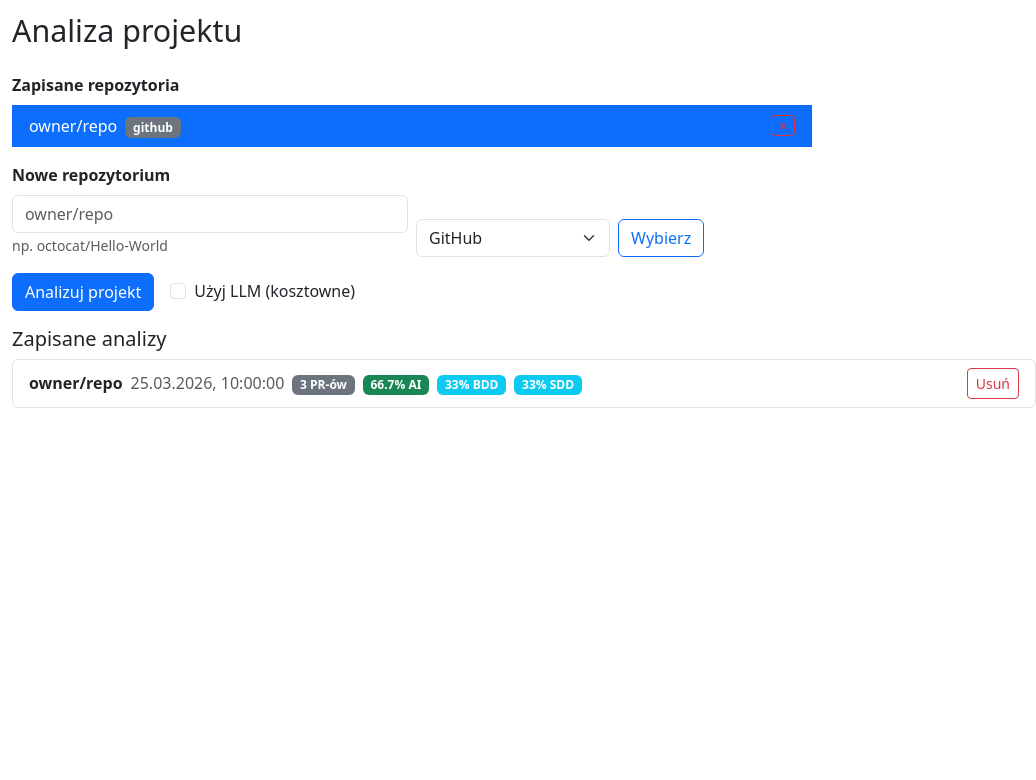
ProjectAnalysisPage › loads saved analysis on click
Click the button that starts with "owner/repo" at (305, 384), box [29,372,582,395]
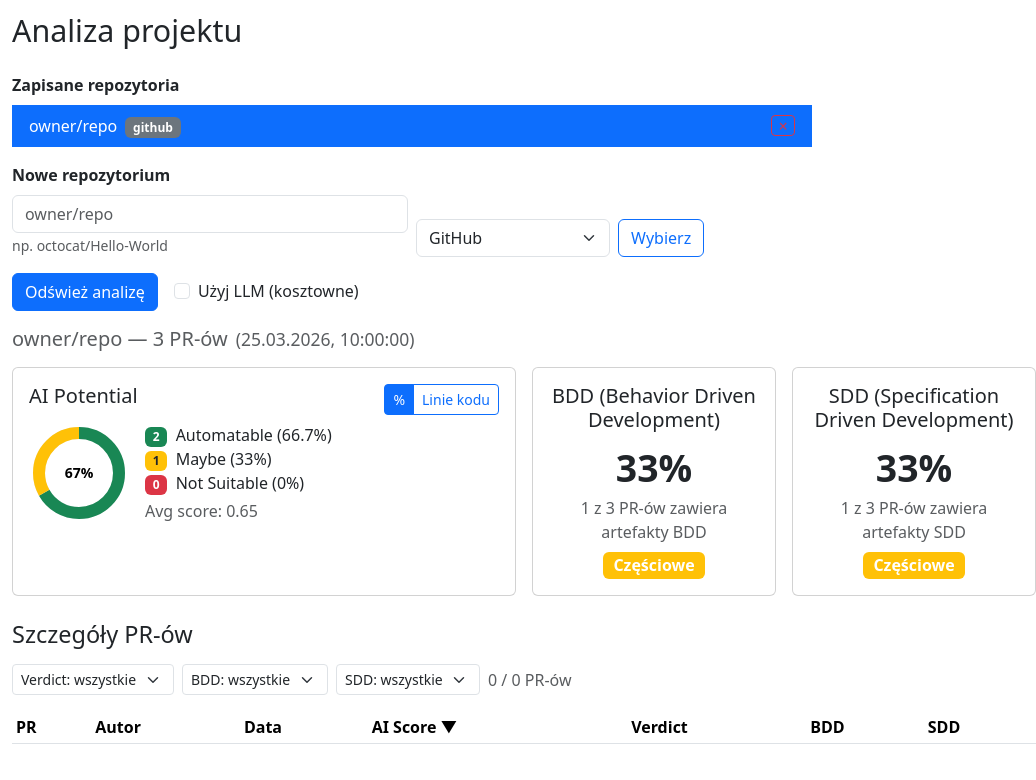
Expected: the text "AI Potential" is shown, [29,384,138,408]
